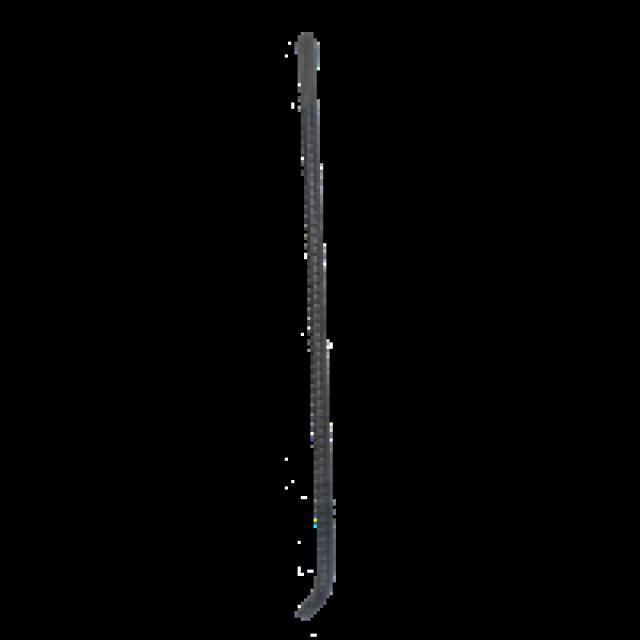Linggis: (278, 32, 356, 634)
